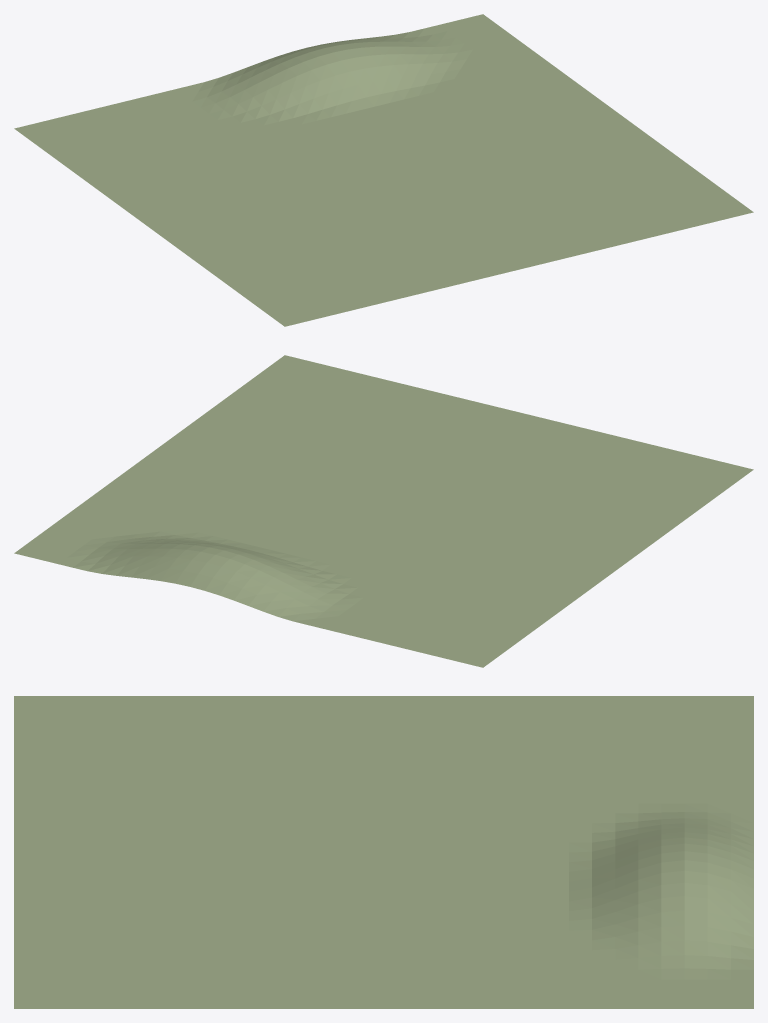
File: urban-0-1.glb
3 views of the same model, one above another, from view 1: azimuth 30°, elevation 25°; view 2: azimuth 150°, elevation 25°; view 3: azimuth 270°, elevation 25° (orthographic). The views are drawn at different scales.
Parts seen in each view (by area): view 1: urban-0-1; view 2: urban-0-1; view 3: urban-0-1.
Part boxes in pixels (x1,y1,x2,y2): urban-0-1: (14, 14, 753, 326); urban-0-1: (14, 355, 753, 667); urban-0-1: (14, 696, 753, 1008).
Bounding box in the file's own units: 128 × 6 × 128.
